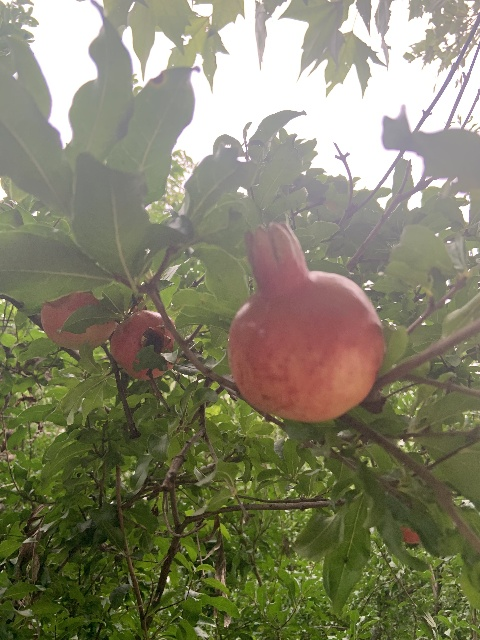ripe: (227, 220, 385, 423), (110, 310, 177, 380), (40, 290, 115, 349)
